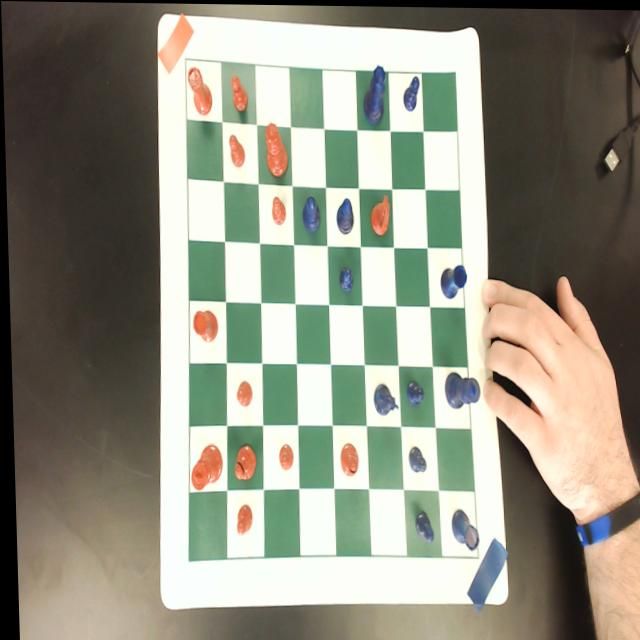B: (333, 194, 352, 235), (299, 193, 318, 232)
K: (441, 368, 478, 407)
N: (368, 379, 395, 419)
P: (410, 507, 430, 543), (401, 72, 419, 110), (403, 376, 422, 406), (405, 442, 424, 472), (335, 261, 352, 294)
Q: (360, 61, 386, 123)
R: (447, 506, 476, 549), (437, 258, 466, 296)
b: (229, 443, 254, 479), (336, 441, 356, 474)
k: (187, 441, 220, 489)
n: (366, 190, 389, 234)
p: (229, 73, 247, 111), (227, 132, 244, 166), (232, 502, 249, 535), (232, 378, 250, 406), (269, 194, 285, 224), (275, 441, 290, 469)
q: (263, 120, 287, 176)
r: (186, 65, 211, 115), (190, 307, 215, 341)
